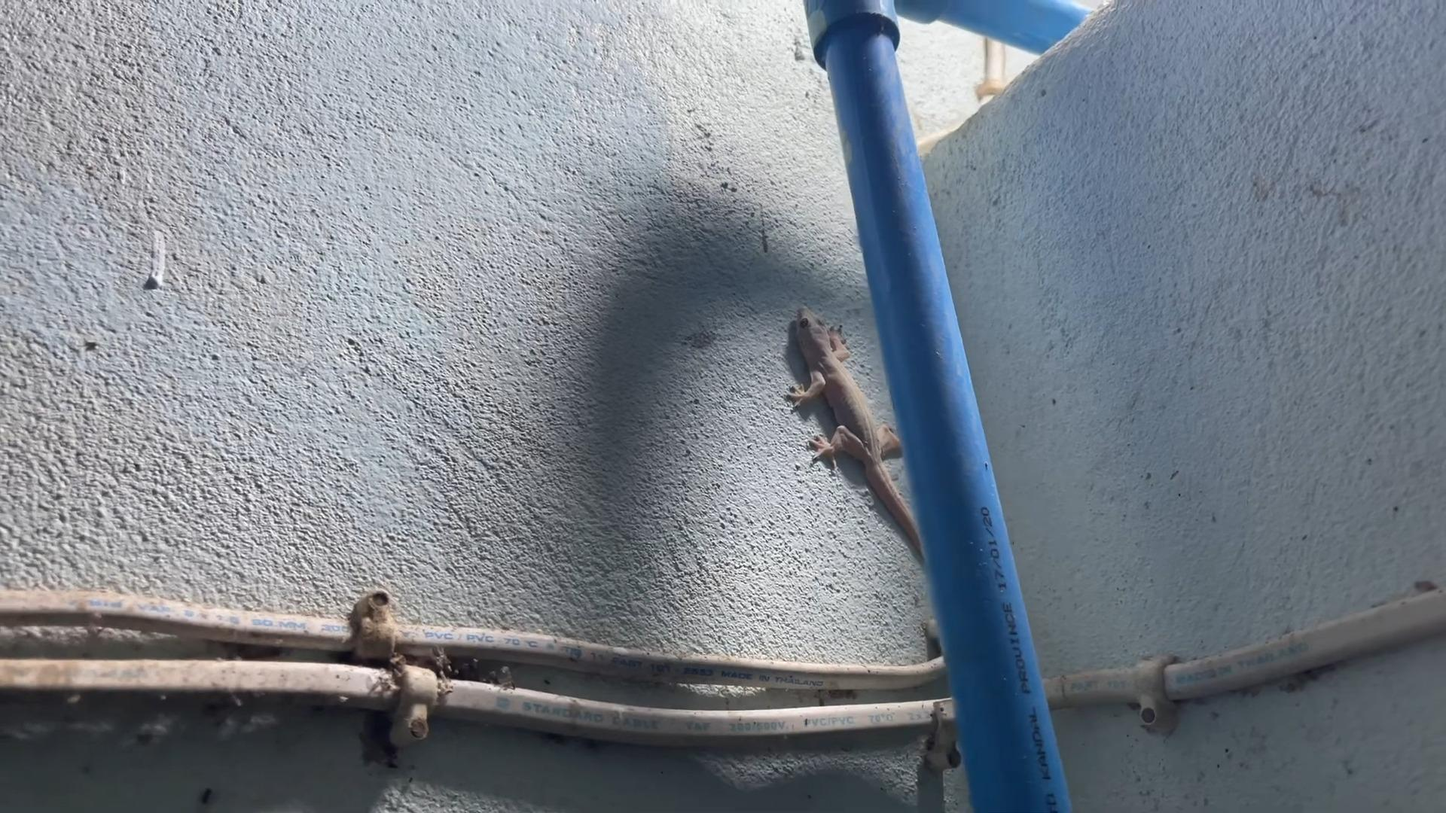lizard: (778, 300, 873, 539)
